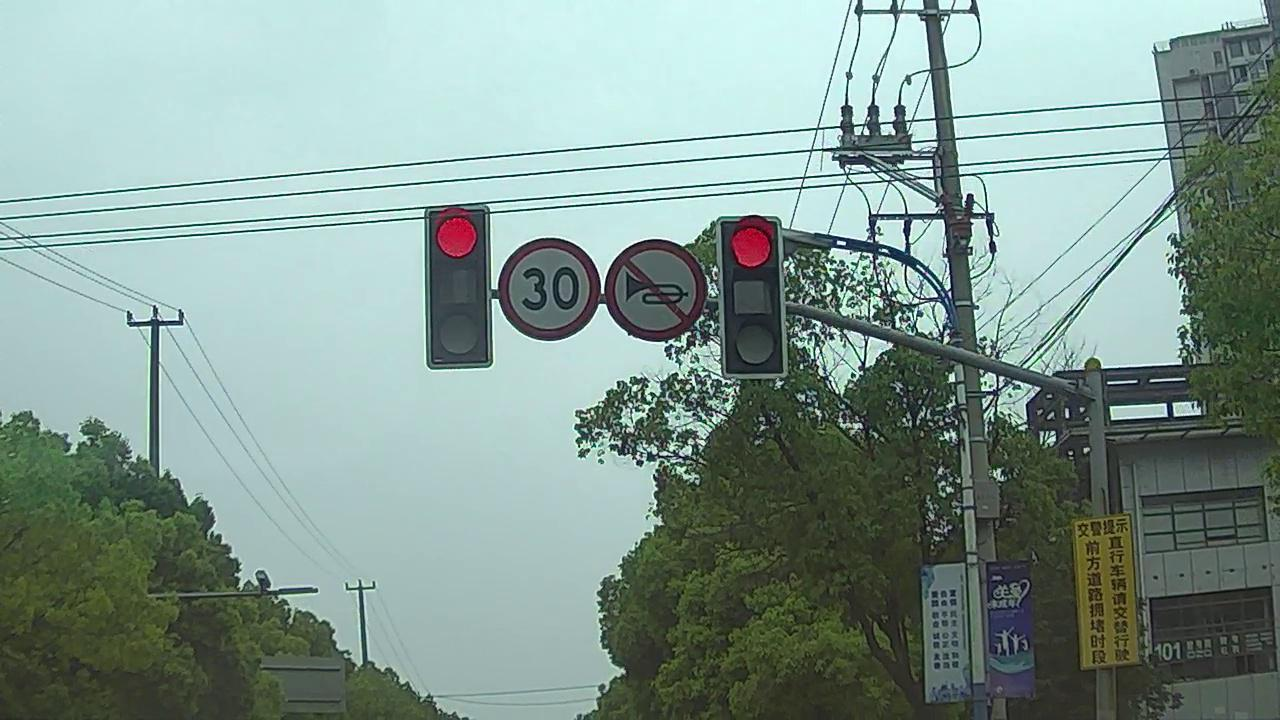traffic_light: (428, 204, 494, 368), (722, 216, 787, 374)
